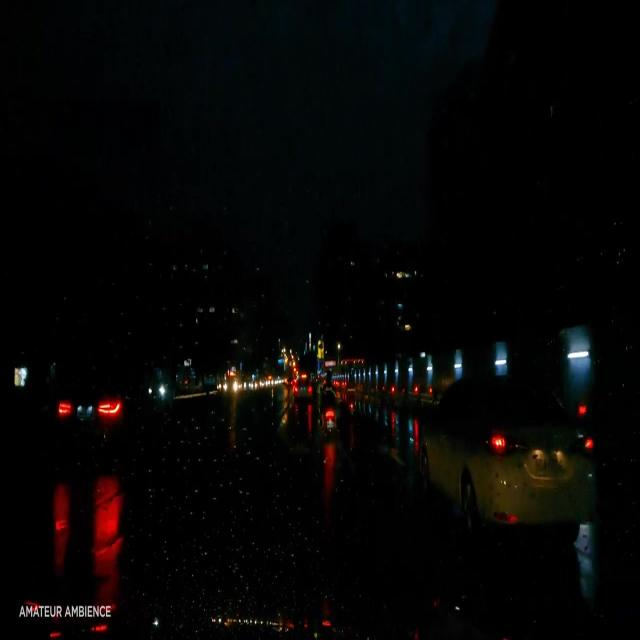Car: (419, 365, 594, 541), (50, 366, 169, 449)
